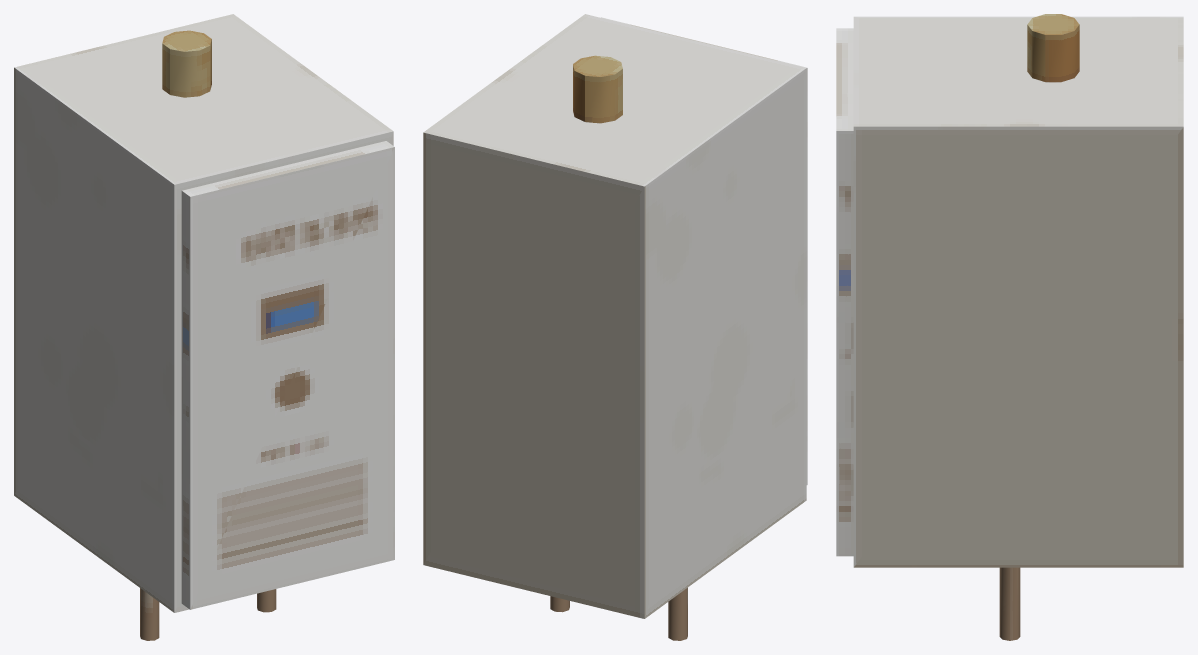
File: waterheater.glb
3 views of the same model, side by side, from view 1: azimuth 30°, elevation 25°; view 2: azimuth 150°, elevation 25°; view 3: azimuth 270°, elevation 25° (orthographic). The views are drawn at different scales.
Visible parts, largest first — view 1: mesh; view 2: mesh; view 3: mesh.
Part boxes in pixels (box(x1,y1,x2,y2)): mesh: box(14, 14, 394, 640); mesh: box(423, 14, 807, 640); mesh: box(836, 14, 1183, 640).
Bounding box in the file's own units: 0.3 × 0.74 × 0.4.
1 material, 1 textured.
